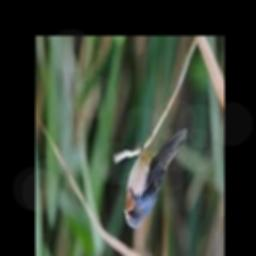Swallow: (124, 128, 189, 228)
